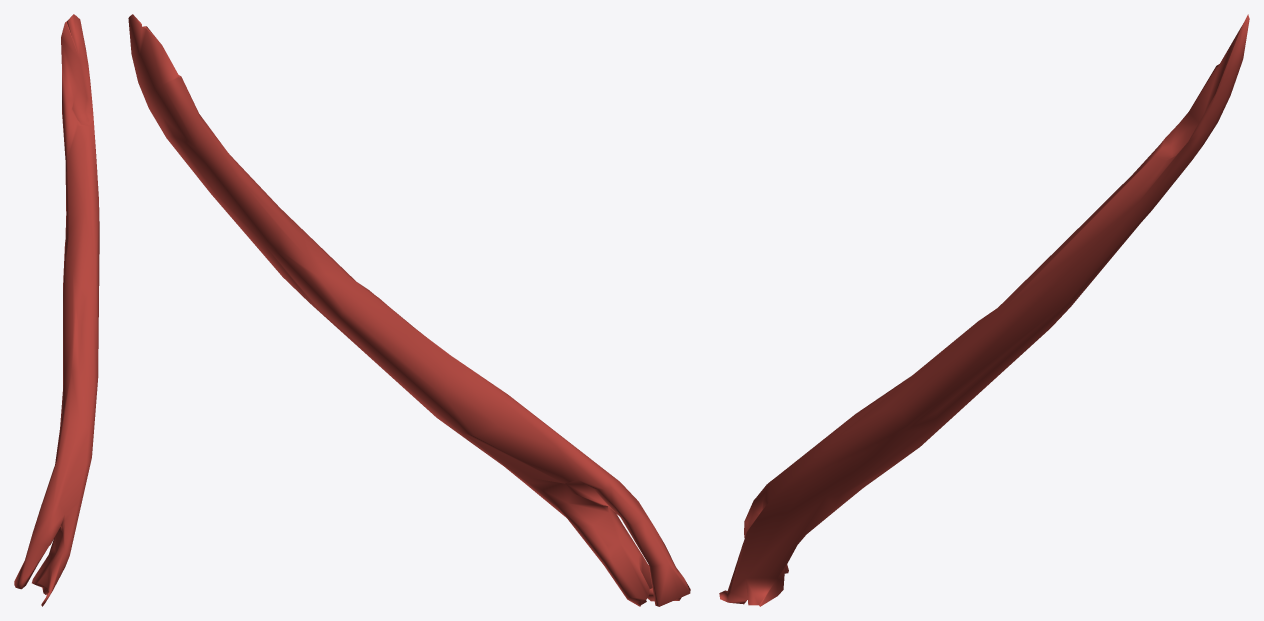
Rendered from musculos-stylohyoid-muscle-l.glb.
3 renders of one model, left to right at view 1: azimuth 30°, elevation 25°; view 2: azimuth 150°, elevation 25°; view 3: azimuth 270°, elevation 25°, orthographic. The views are drawn at different scales.
Parts seen in each view (by area): view 1: Stylohyoid muscle.l; view 2: Stylohyoid muscle.l; view 3: Stylohyoid muscle.l.
Boxes of the visible parts, <box> form: Stylohyoid muscle.l: <box>14,14,99,606</box>; Stylohyoid muscle.l: <box>128,14,690,606</box>; Stylohyoid muscle.l: <box>719,14,1249,606</box>.
Size of the model in its own units: 0.0316 by 0.0628 by 0.0408.
